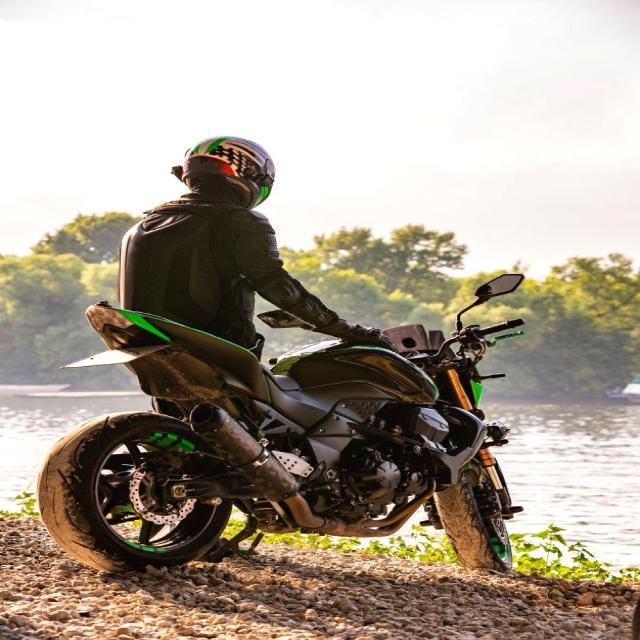helmet: (180, 137, 274, 207)
